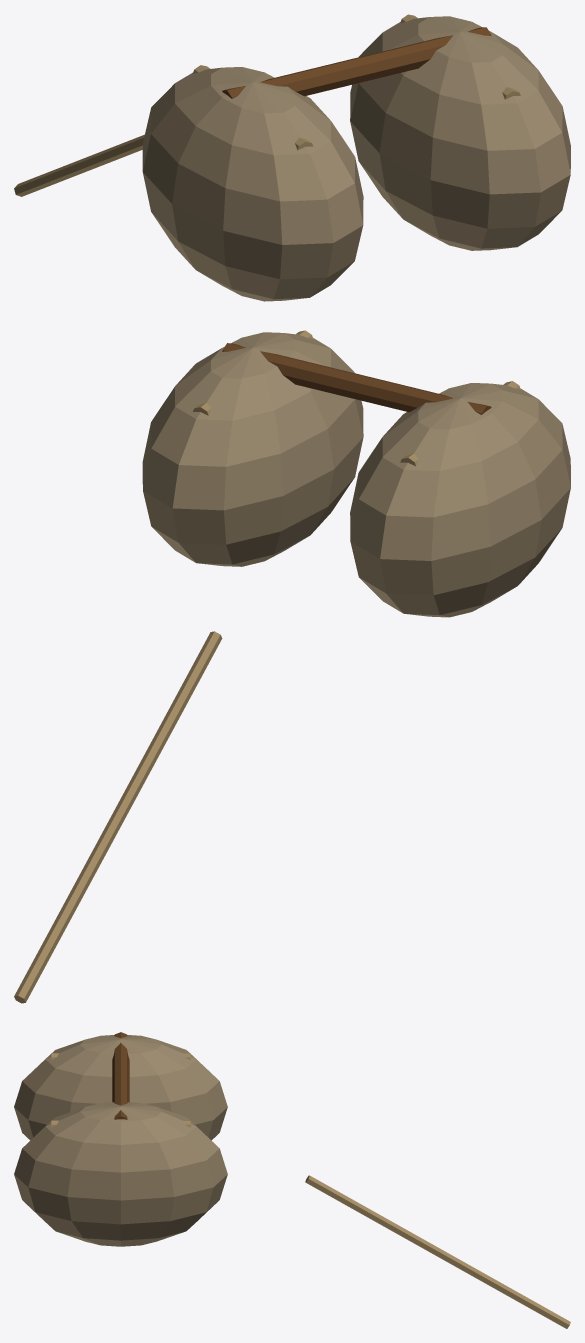
The model's file is packs.glb.
3 renders of one model, top to bottom at view 1: azimuth 30°, elevation 25°; view 2: azimuth 150°, elevation 25°; view 3: azimuth 270°, elevation 25°, orthographic. The views are drawn at different scales.
Visible parts, largest first — view 1: CaravanPacks; view 2: CaravanPacks; view 3: CaravanPacks.
Part boxes in pixels (<box>): CaravanPacks: <box>14,14,570,301</box>; CaravanPacks: <box>14,330,570,1003</box>; CaravanPacks: <box>14,1032,570,1328</box>.
Bounding box in the file's own units: 1.14 × 1.14 × 2.24.
